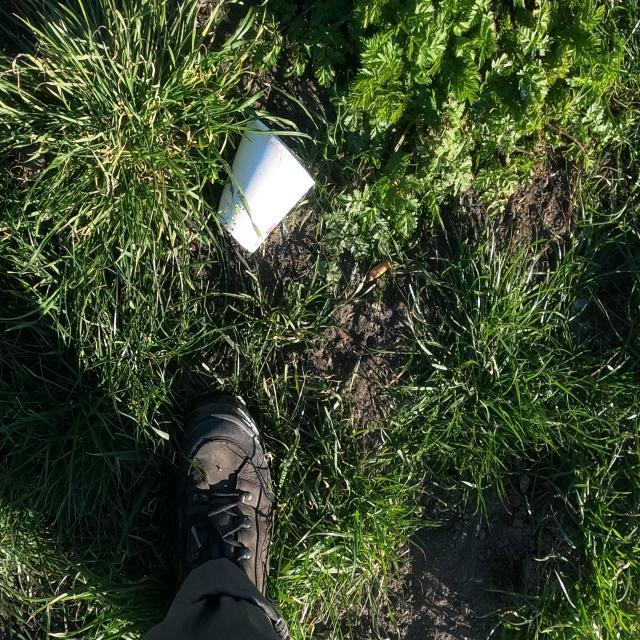Cup: (214, 113, 318, 255)
